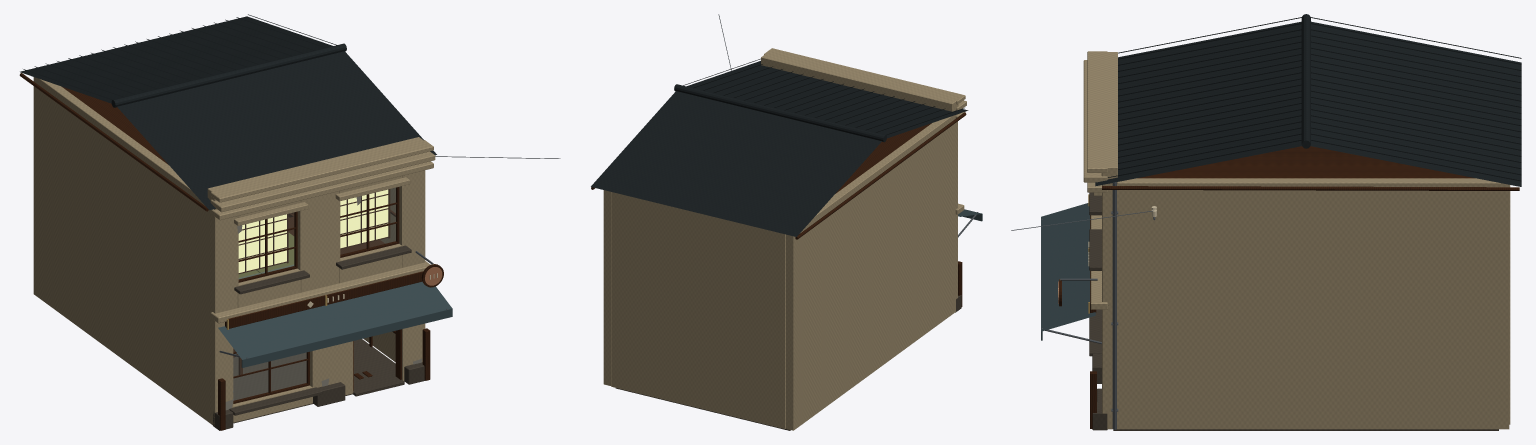
File: building-a.glb
3 views of the same model, side by side, from view 1: azimuth 30°, elevation 25°; view 2: azimuth 150°, elevation 25°; view 3: azimuth 270°, elevation 25° (orthographic). The views are drawn at different scales.
Parts seen in each view (by area): view 1: building-a-exterior-lod0 / left / warm lime plaster, building-a-exterior-lod0 / roof / blue grey fired roof, building-a-exterior-lod0 / front / warm lime plaster, building-a-exterior-lod0 / front / blue green canvas, building-a-exterior-lod0 / front / wavy cylinder glass, building-a-exterior-lod0 / front / oiled dark timber, building-a-exterior-lod0 / front / damp plinth, building-a-interior-cell / interior / unprinted washi, building-a-interior-cell / interior / damp plinth, building-a-interior-cell / interior / oiled dark timber, building-a-interior-cell / ceiling / oiled dark timber, building-a-exterior-lod0 / roof / oiled dark timber (+1 smaller); view 2: building-a-exterior-lod0 / back / warm lime plaster, building-a-exterior-lod0 / roof / blue grey fired roof, building-a-exterior-lod0 / left / warm lime plaster, building-a-exterior-lod0 / front / warm lime plaster, building-a-exterior-lod0 / right / warm lime plaster, building-a-interior-cell / ceiling / oiled dark timber, building-a-exterior-lod0 / roof / oiled dark timber; view 3: building-a-exterior-lod0 / right / warm lime plaster, building-a-exterior-lod0 / roof / blue grey fired roof, building-a-exterior-lod0 / front / warm lime plaster, building-a-interior-cell / ceiling / oiled dark timber, building-a-exterior-lod0 / front / blue green canvas, building-a-exterior-lod0 / front / damp plinth, building-a-exterior-lod0 / roof / oiled dark timber, building-a-exterior-lod0 / right / painted iron, building-a-interior-cell / interior / damp plinth, building-a-exterior-lod0 / front / oiled dark timber.
Part boxes in pixels (<box>): building-a-exterior-lod0 / left / warm lime plaster: <box>33,77,212,423</box>; building-a-exterior-lod0 / roof / blue grey fired roof: <box>20,14,436,210</box>; building-a-exterior-lod0 / front / warm lime plaster: <box>207,137,435,426</box>; building-a-exterior-lod0 / front / blue green canvas: <box>218,281,452,367</box>; building-a-exterior-lod0 / front / wavy cylinder glass: <box>234,188,395,399</box>; building-a-exterior-lod0 / front / oiled dark timber: <box>218,187,443,430</box>; building-a-exterior-lod0 / front / damp plinth: <box>213,245,425,430</box>; building-a-interior-cell / interior / unprinted washi: <box>238,189,388,272</box>; building-a-interior-cell / interior / damp plinth: <box>233,339,395,423</box>; building-a-interior-cell / interior / oiled dark timber: <box>233,189,395,379</box>; building-a-interior-cell / ceiling / oiled dark timber: <box>61,86,294,217</box>; building-a-exterior-lod0 / roof / oiled dark timber: <box>19,73,208,211</box>; building-a-exterior-lod0 / back / warm lime plaster: <box>611,192,785,428</box>; building-a-exterior-lod0 / roof / blue grey fired roof: <box>591,58,968,236</box>; building-a-exterior-lod0 / left / warm lime plaster: <box>786,116,955,430</box>; building-a-exterior-lod0 / front / warm lime plaster: <box>761,48,966,313</box>; building-a-exterior-lod0 / right / warm lime plaster: <box>603,190,611,385</box>; building-a-interior-cell / ceiling / oiled dark timber: <box>835,123,931,193</box>; building-a-exterior-lod0 / roof / oiled dark timber: <box>591,112,966,239</box>; building-a-exterior-lod0 / right / warm lime plaster: <box>1108,178,1509,429</box>; building-a-exterior-lod0 / roof / blue grey fired roof: <box>1095,14,1521,186</box>; building-a-exterior-lod0 / front / warm lime plaster: <box>1083,51,1117,429</box>; building-a-interior-cell / ceiling / oiled dark timber: <box>1137,146,1474,178</box>; building-a-exterior-lod0 / front / blue green canvas: <box>1041,203,1095,340</box>; building-a-exterior-lod0 / front / damp plinth: <box>1089,192,1107,430</box>; building-a-exterior-lod0 / roof / oiled dark timber: <box>1102,186,1519,190</box>; building-a-exterior-lod0 / right / painted iron: <box>1011,182,1155,429</box>; building-a-interior-cell / interior / damp plinth: <box>1113,429,1498,430</box>; building-a-exterior-lod0 / front / oiled dark timber: <box>1059,215,1096,428</box>.
Size of what is drawn, in the model's own units: 9.1 by 7.32 by 11.25.
28 materials, 16 textured.
